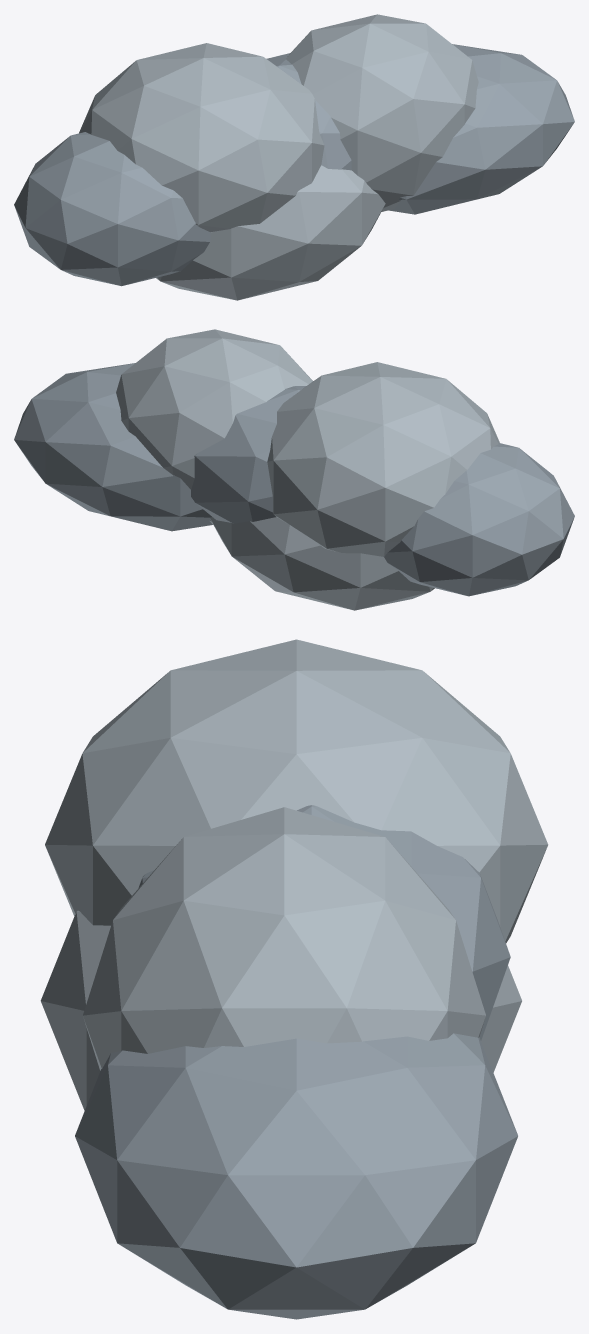
File: cloud-storm-b.glb
The picture shows the model from 3 angles, top to bottom: view 1: azimuth 30°, elevation 25°; view 2: azimuth 150°, elevation 25°; view 3: azimuth 270°, elevation 25°; orthographic projection. The views are drawn at different scales.
Visible parts, largest first — view 1: CloudMass_2, CloudMass_4, CloudMass_1, CloudMass_6, CloudMass_5, CloudMass_3; view 2: CloudMass_2, CloudMass_1, CloudMass_5, CloudMass_4, CloudMass_6, CloudMass_3; view 3: CloudMass_5, CloudMass_2, CloudMass_4, CloudMass_6, CloudMass_3.
Boxes of the visible parts, left/top/right/bottom form: CloudMass_2: left=79, top=43, right=324, bottom=232; CloudMass_4: left=286, top=14, right=478, bottom=211; CloudMass_1: left=14, top=132, right=210, bottom=286; CloudMass_6: left=156, top=165, right=385, bottom=300; CloudMass_5: left=388, top=44, right=574, bottom=214; CloudMass_3: left=266, top=53, right=351, bottom=170; CloudMass_2: left=267, top=362, right=499, bottom=556; CloudMass_1: left=384, top=442, right=574, bottom=596; CloudMass_5: left=14, top=363, right=212, bottom=531; CloudMass_4: left=116, top=329, right=312, bottom=524; CloudMass_6: left=210, top=517, right=434, bottom=610; CloudMass_3: left=191, top=386, right=306, bottom=523; CloudMass_5: left=75, top=1033, right=517, bottom=1319; CloudMass_2: left=45, top=639, right=548, bottom=943; CloudMass_4: left=83, top=807, right=485, bottom=1070; CloudMass_6: left=40, top=910, right=521, bottom=1110; CloudMass_3: left=138, top=805, right=510, bottom=1040.
Size of the model in its own units: 4.1 by 1.68 by 1.68.
